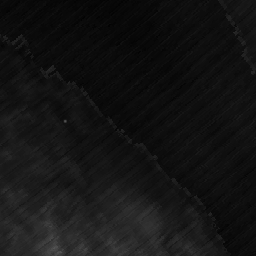Target: (62, 118, 68, 123)
